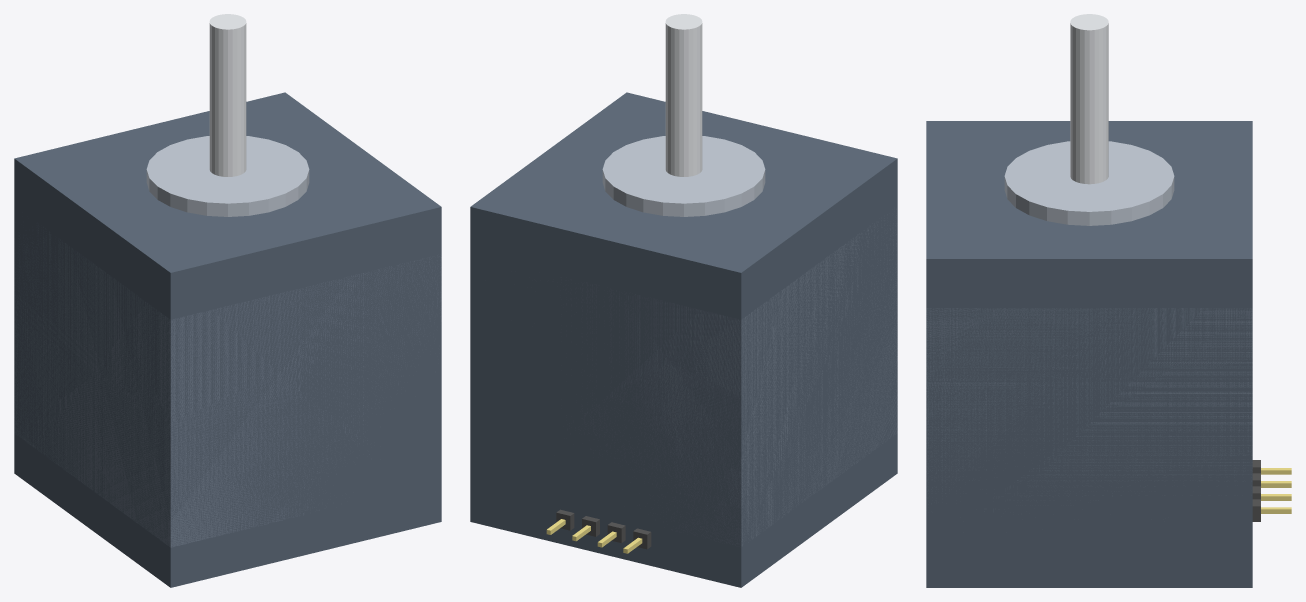
File: stepper-motor.glb
3 renders of one model, left to right at view 1: azimuth 30°, elevation 25°; view 2: azimuth 150°, elevation 25°; view 3: azimuth 270°, elevation 25°, orthographic. The views are drawn at different scales.
Visible parts, largest first — view 1: stepper-motor-nema17_mesh; view 2: stepper-motor-nema17_mesh; view 3: stepper-motor-nema17_mesh.
Part boxes in pixels (left/top/right/bottom): stepper-motor-nema17_mesh: left=14, top=14, right=441, bottom=587; stepper-motor-nema17_mesh: left=470, top=14, right=897, bottom=587; stepper-motor-nema17_mesh: left=926, top=14, right=1291, bottom=587.
Bounding box in the file's own units: 42.3 × 71 × 47.35.
